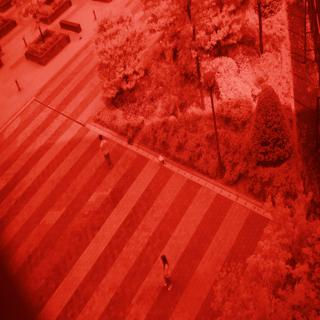person: (95, 130, 119, 181), (159, 252, 176, 295)
